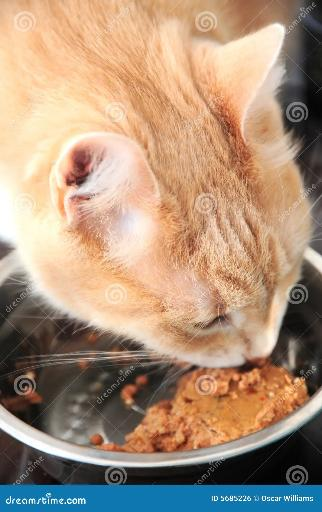cat_eating: (0, 0, 322, 484)
